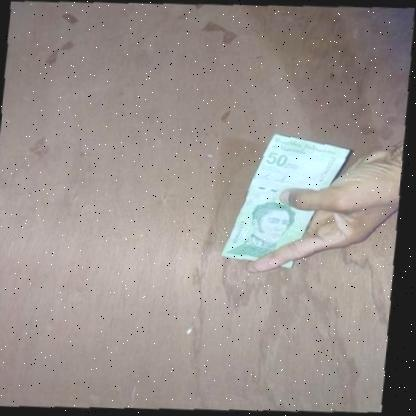fifty-front-vef: (222, 130, 355, 272)
